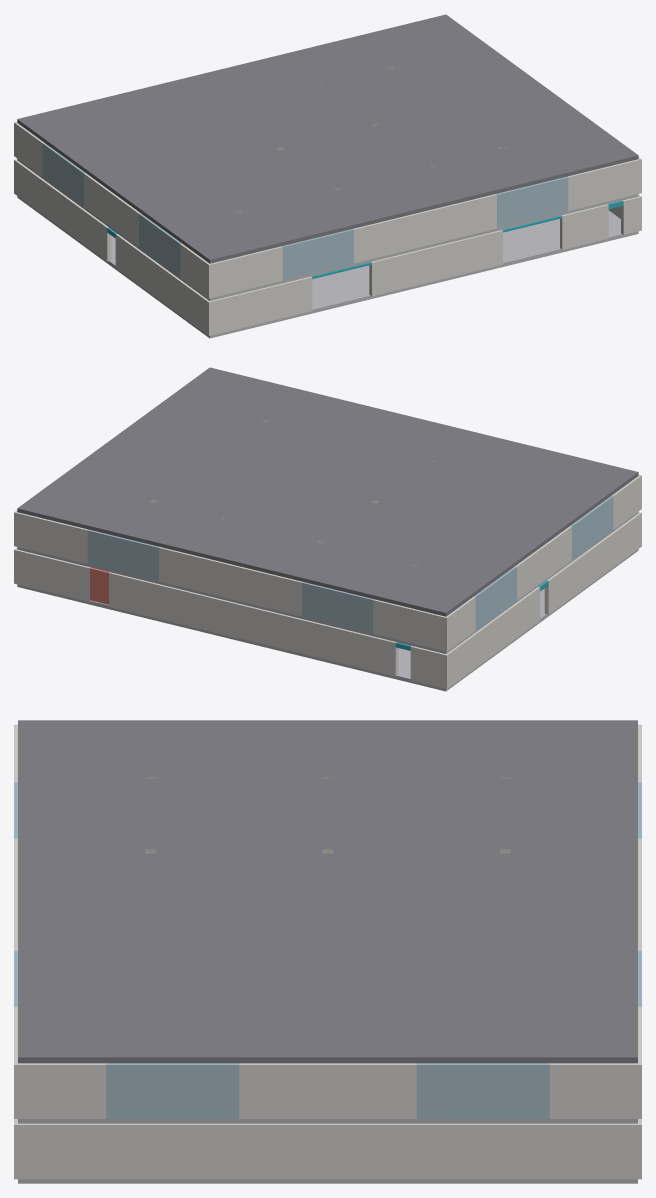
Rendered from parking_garage_a01.glb.
3 renders of one model, top to bottom at view 1: azimuth 30°, elevation 25°; view 2: azimuth 150°, elevation 25°; view 3: azimuth 270°, elevation 25°, orthographic. The views are drawn at different scales.
Visible parts, largest first — view 1: slab_2_t0_0, slab_2_t0_1, slab_2_t0_2, slab_2_t0_4, slab_2_t0_5, slab_2_t0_3, slab_2_t0_6, slab_2_t0_7, slab_2_t4_0, slab_2_t5_0, slab_2_t3_0, slab_2_t2_0 (+93 smaller); view 2: slab_2_t5_0, slab_2_t5_1, slab_2_t5_2, slab_2_t5_4, slab_2_t5_5, slab_2_t5_3, slab_2_t5_6, slab_2_t5_7, slab_2_t0_0, slab_2_t1_0, slab_2_t2_0, slab_2_t3_0 (+93 smaller); view 3: slab_2_t1_7, slab_2_t4_7, slab_2_t0_7, slab_2_t2_7, slab_2_t3_7, slab_2_t5_7, slab_2_t0_1, slab_2_t1_0, slab_2_t1_1, slab_2_t1_2, slab_2_t1_4, slab_2_t2_1 (+64 smaller).
Boxes of the visible parts, <box> form: slab_2_t0_0: <box>177,223,263,263</box>; slab_2_t0_1: <box>231,210,316,250</box>; slab_2_t0_2: <box>285,197,370,237</box>; slab_2_t0_4: <box>392,171,477,211</box>; slab_2_t0_5: <box>446,158,531,198</box>; slab_2_t0_3: <box>339,184,424,224</box>; slab_2_t0_6: <box>500,145,584,185</box>; slab_2_t0_7: <box>553,132,638,171</box>; slab_2_t4_0: <box>49,129,134,169</box>; slab_2_t5_0: <box>17,106,102,145</box>; slab_2_t3_0: <box>81,153,166,192</box>; slab_2_t2_0: <box>113,176,198,216</box>; slab_2_t5_0: <box>392,576,478,616</box>; slab_2_t5_1: <box>339,563,424,603</box>; slab_2_t5_2: <box>285,550,370,590</box>; slab_2_t5_4: <box>178,524,263,564</box>; slab_2_t5_5: <box>124,511,209,551</box>; slab_2_t5_3: <box>231,537,316,577</box>; slab_2_t5_6: <box>71,498,155,538</box>; slab_2_t5_7: <box>17,485,102,524</box>; slab_2_t0_0: <box>553,459,638,498</box>; slab_2_t1_0: <box>521,482,606,522</box>; slab_2_t2_0: <box>489,506,574,545</box>; slab_2_t3_0: <box>457,529,542,569</box>; slab_2_t1_7: <box>121,1015,224,1063</box>; slab_2_t4_7: <box>431,1015,534,1063</box>; slab_2_t0_7: <box>18,1015,121,1063</box>; slab_2_t2_7: <box>224,1015,327,1063</box>; slab_2_t3_7: <box>328,1015,431,1063</box>; slab_2_t5_7: <box>534,1015,637,1063</box>; slab_2_t0_1: <box>18,762,121,804</box>; slab_2_t1_0: <box>121,720,224,762</box>; slab_2_t1_1: <box>121,762,224,804</box>; slab_2_t1_2: <box>121,804,224,846</box>; slab_2_t1_4: <box>121,888,224,930</box>; slab_2_t2_1: <box>224,762,327,804</box>.
Size of what is drawn, in the model's own units: 36.35 by 6.3 by 28.35.
